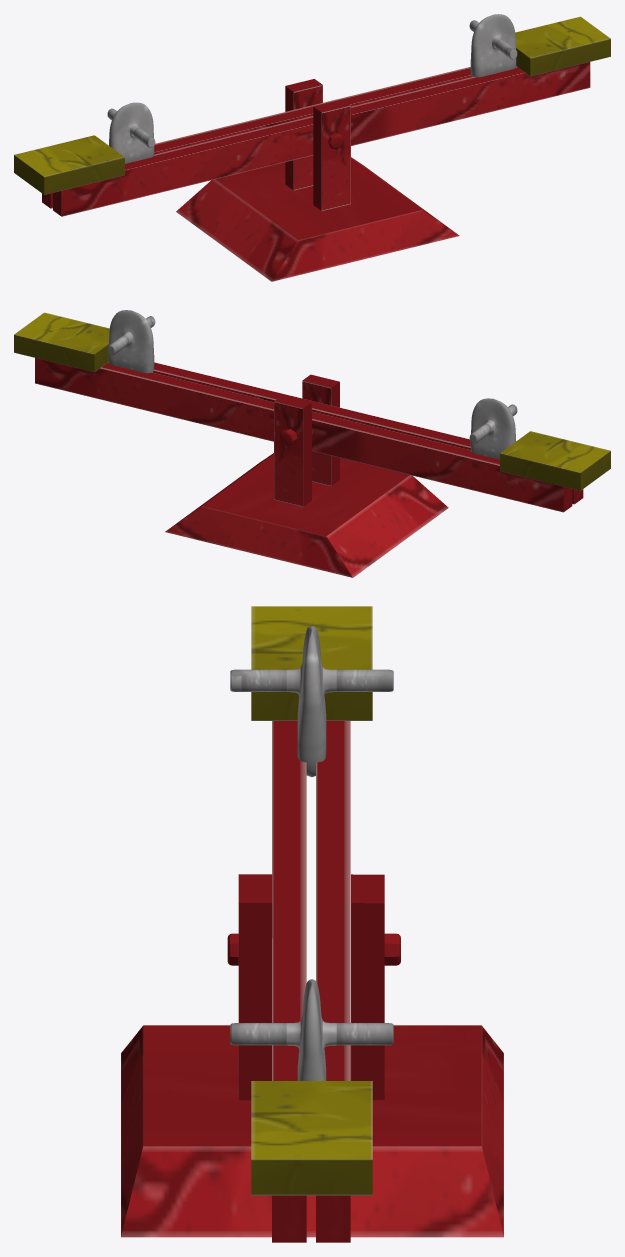
File: Seasaw.fbx
The picture shows the model from 3 angles, top to bottom: view 1: azimuth 30°, elevation 25°; view 2: azimuth 150°, elevation 25°; view 3: azimuth 270°, elevation 25°; orthographic projection. The views are drawn at different scales.
Visible parts, largest first — view 1: Cube.002; view 2: Cube.002; view 3: Cube.002.
Part boxes in pixels (x1=…): Cube.002: x1=14, y1=14, x2=610, y2=281; Cube.002: x1=14, y1=310, x2=610, y2=577; Cube.002: x1=121, y1=606, x2=503, y2=1242.
Size of the model in its own units: 366 by 103 by 107.
